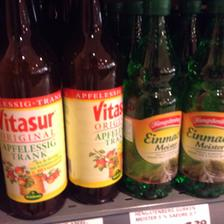Essig: (1, 0, 69, 219), (60, 0, 124, 206), (119, 0, 180, 196), (178, 0, 223, 200)
